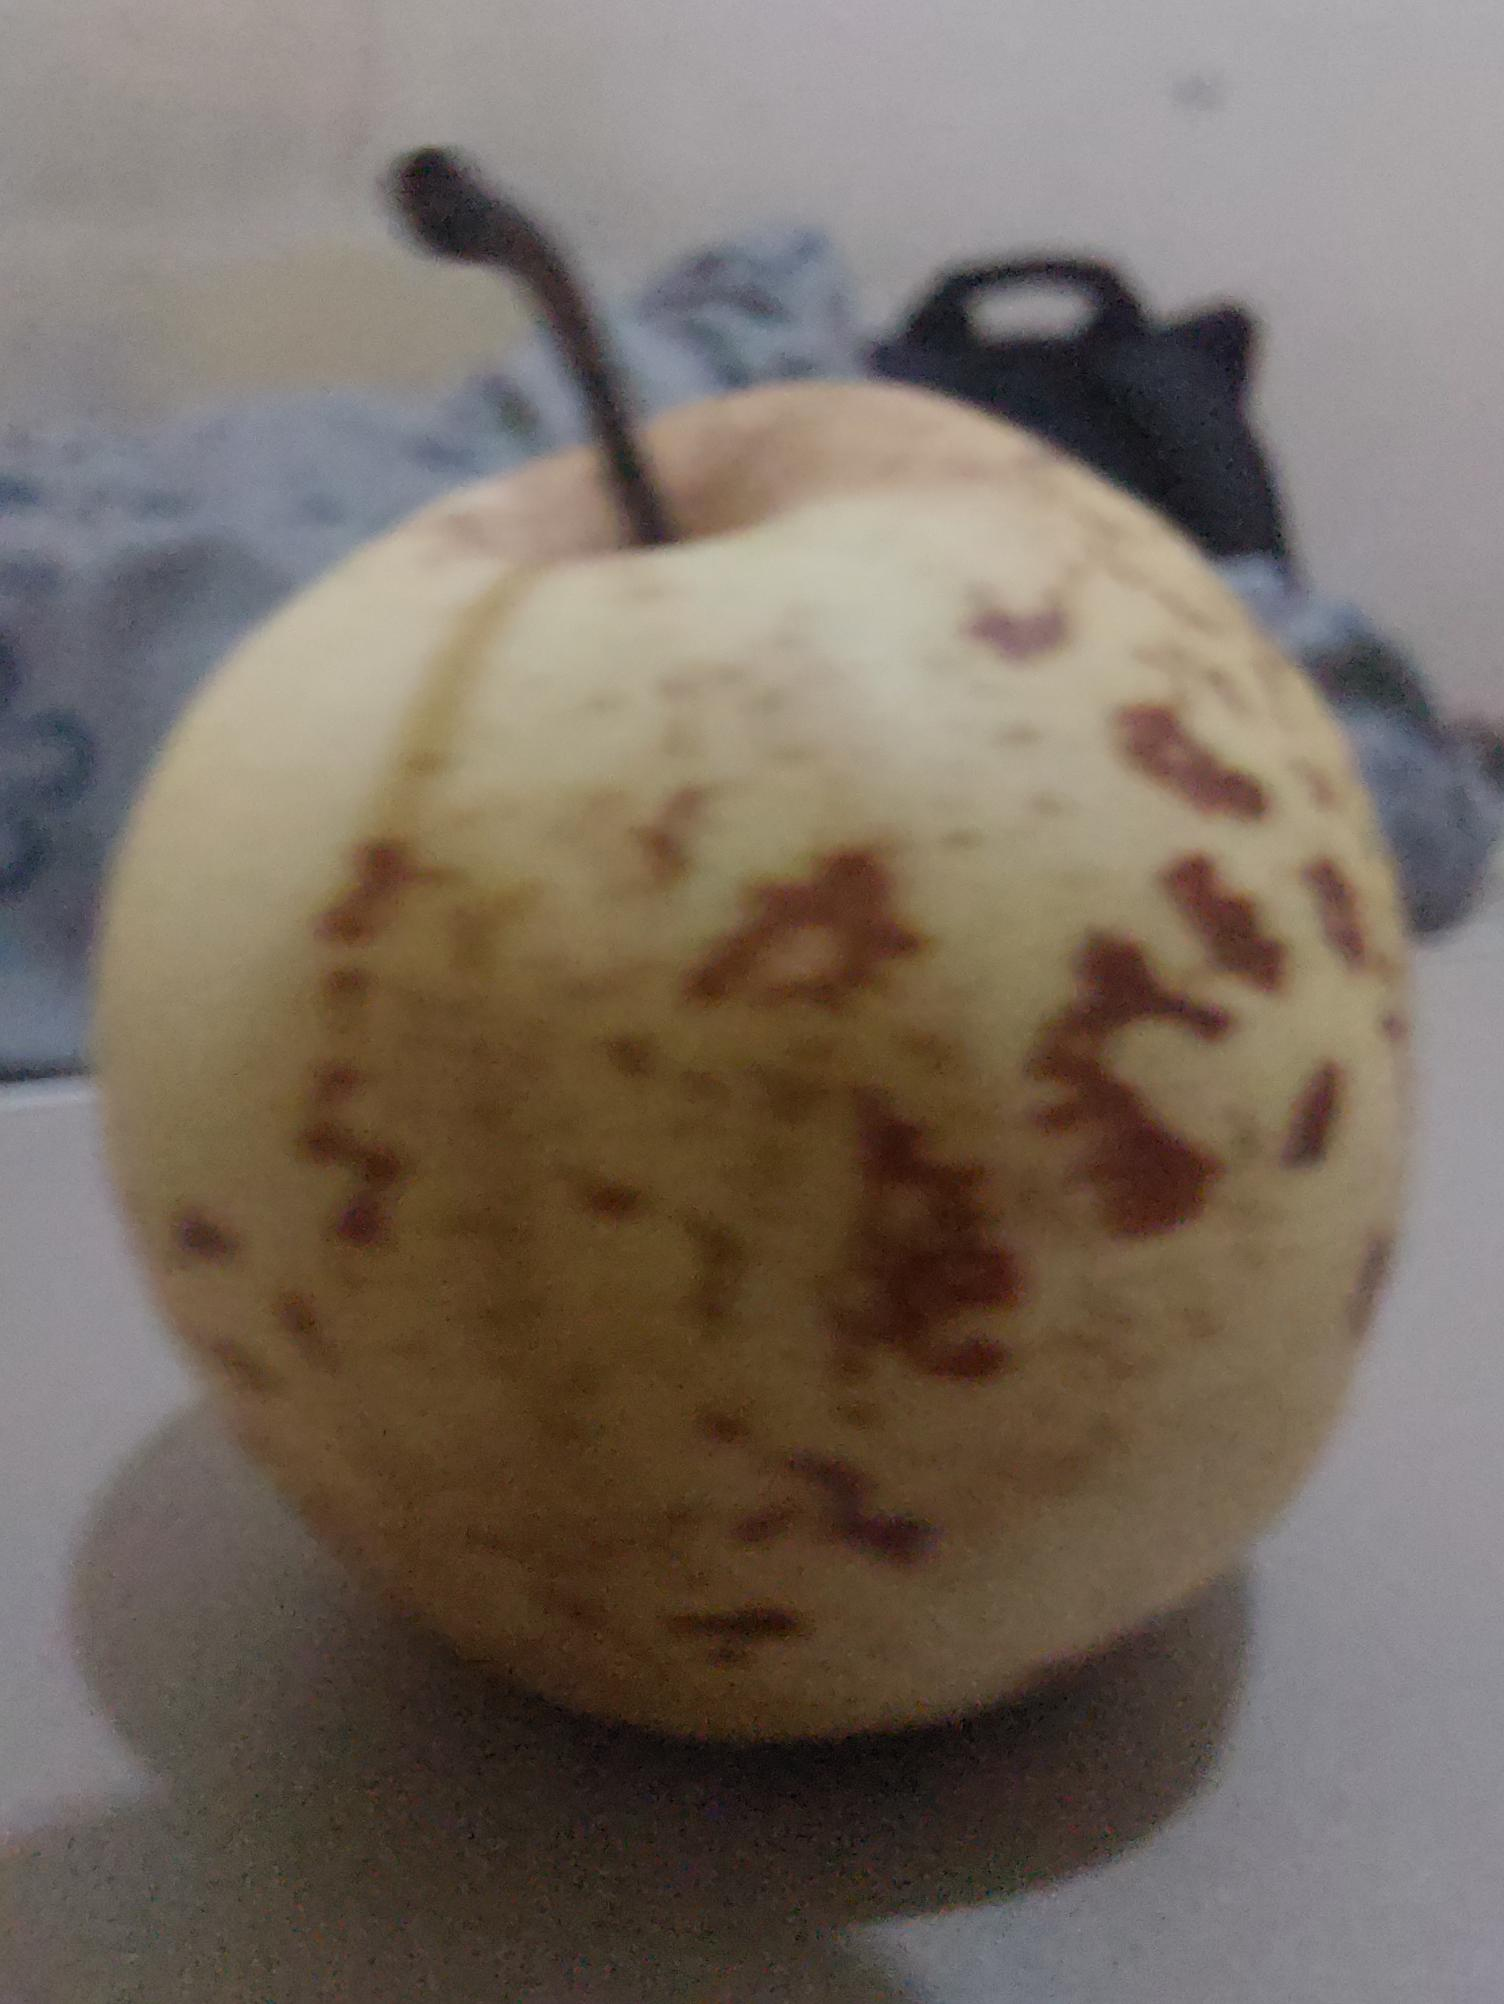Bad Pear: (74, 512, 1291, 1669)
